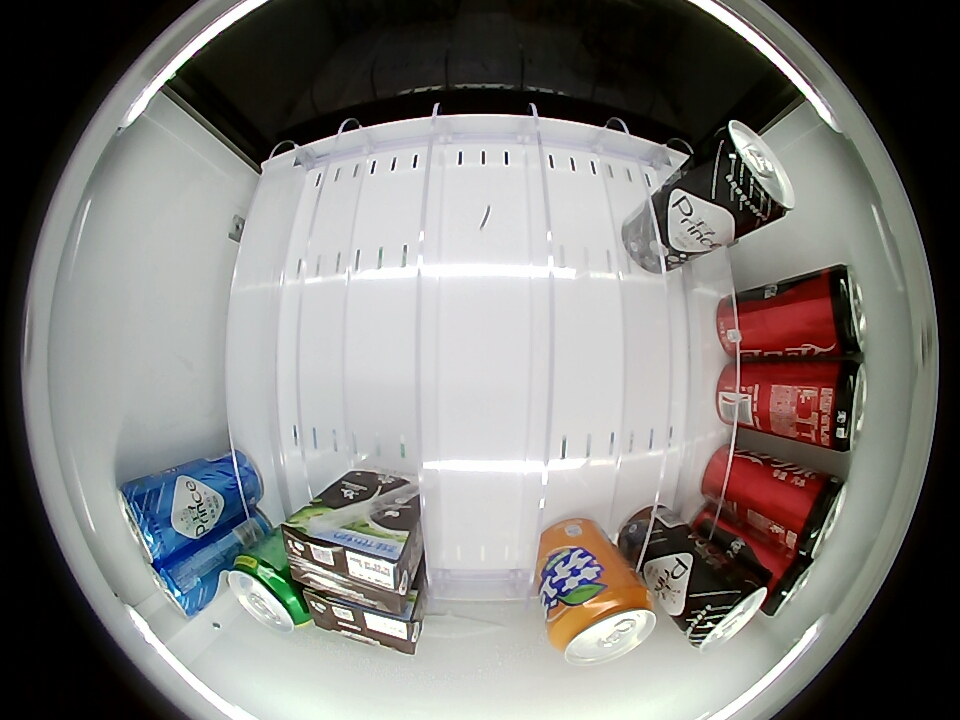fenda: (549, 584, 656, 666)
lingdukele: (777, 470, 848, 561), (804, 264, 866, 359), (809, 360, 866, 453), (763, 553, 817, 618)
qingdaowangzi-1: (711, 119, 795, 227), (682, 562, 770, 651)
qingdaowangzi-2: (116, 474, 181, 565), (144, 553, 216, 617)
weitanai2: (282, 511, 417, 609), (305, 590, 424, 655)
xuebi2: (226, 552, 311, 633)
